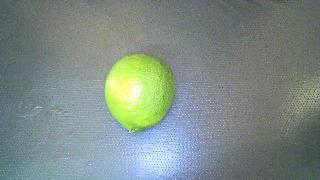EXPORTACION: (105, 53, 175, 132)
